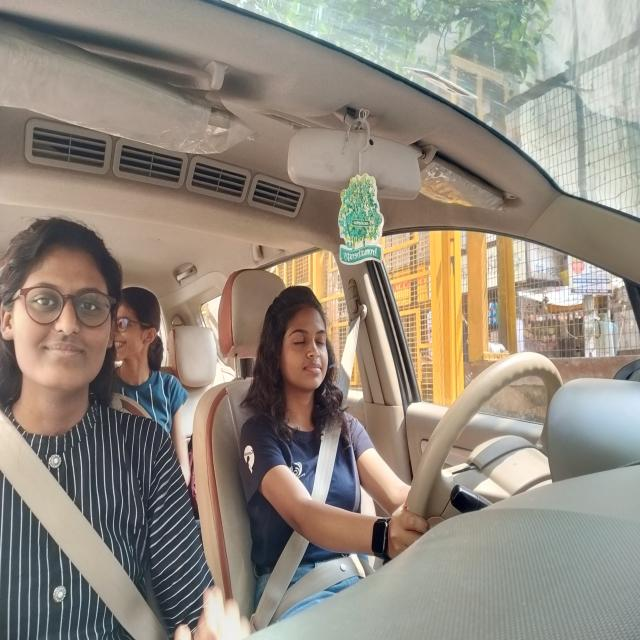drowsy: (252, 286, 340, 392)
person: (0, 224, 123, 394), (114, 274, 162, 368)
